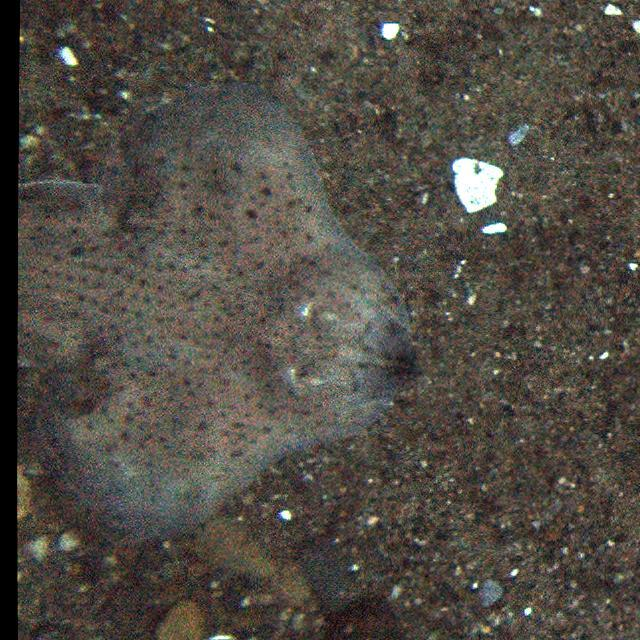skate: (19, 85, 424, 547)
